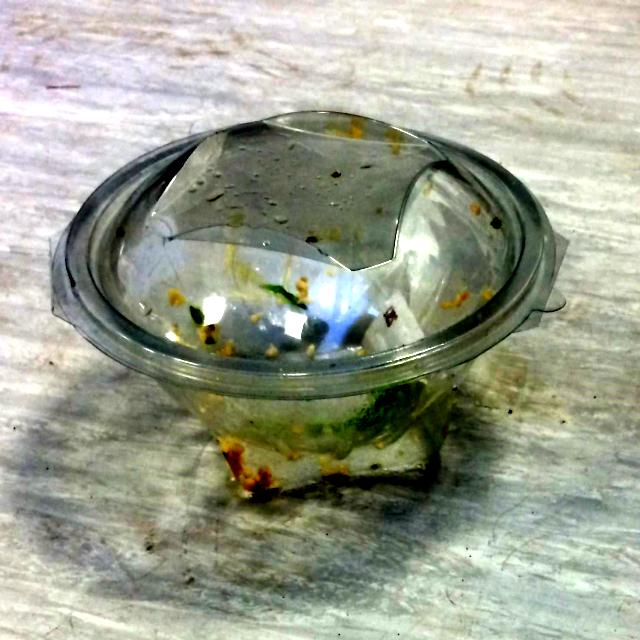Plastic: (37, 97, 584, 516)
